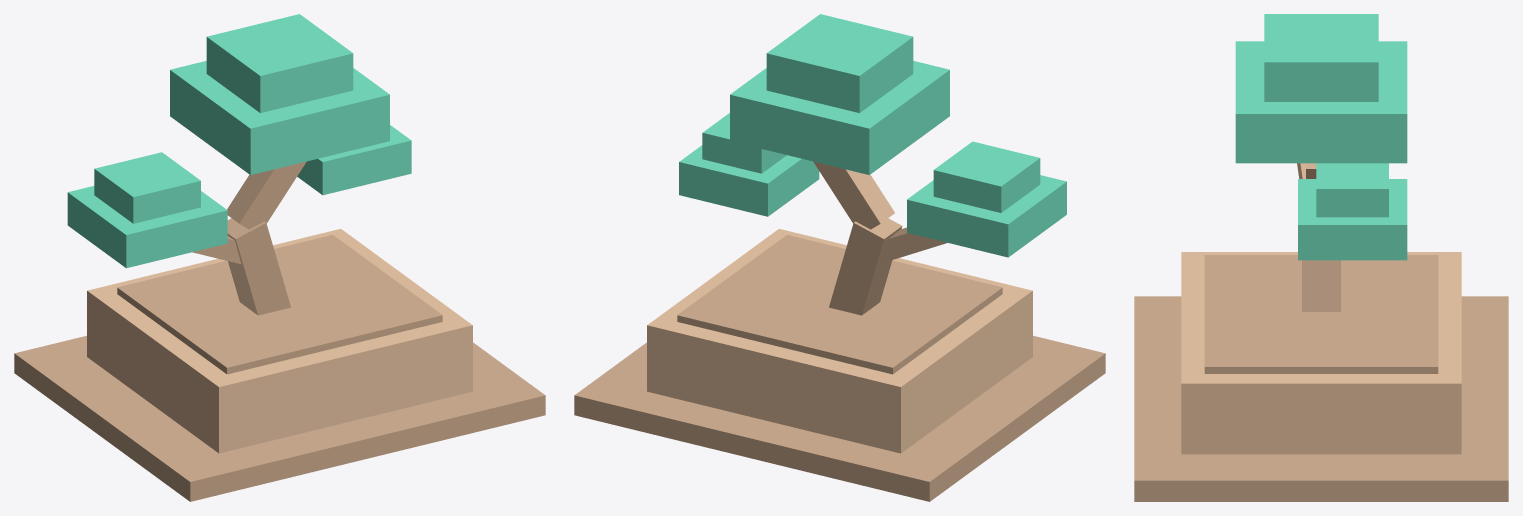
Rendered from plantBonsai.glb.
3 renders of one model, left to right at view 1: azimuth 30°, elevation 25°; view 2: azimuth 150°, elevation 25°; view 3: azimuth 270°, elevation 25°, orthographic. The views are drawn at different scales.
Parts seen in each view (by area): view 1: plantBonsai; view 2: plantBonsai; view 3: plantBonsai.
Part boxes in pixels (box(x1,y1,x2,y2)): plantBonsai: box(14, 14, 545, 501); plantBonsai: box(574, 14, 1105, 501); plantBonsai: box(1134, 14, 1508, 501).
Bounding box in the file's own units: 0.29 × 0.263 × 0.24.
